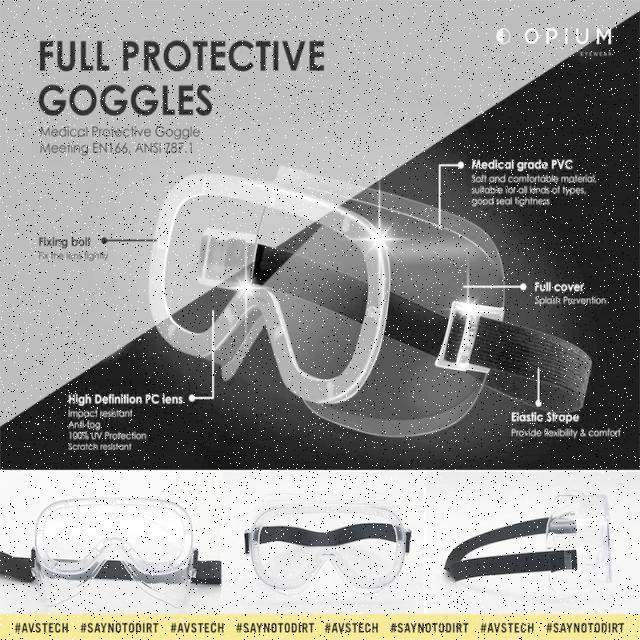goggles_on: (134, 163, 594, 432), (0, 472, 222, 608), (436, 476, 628, 608), (234, 478, 416, 608)
